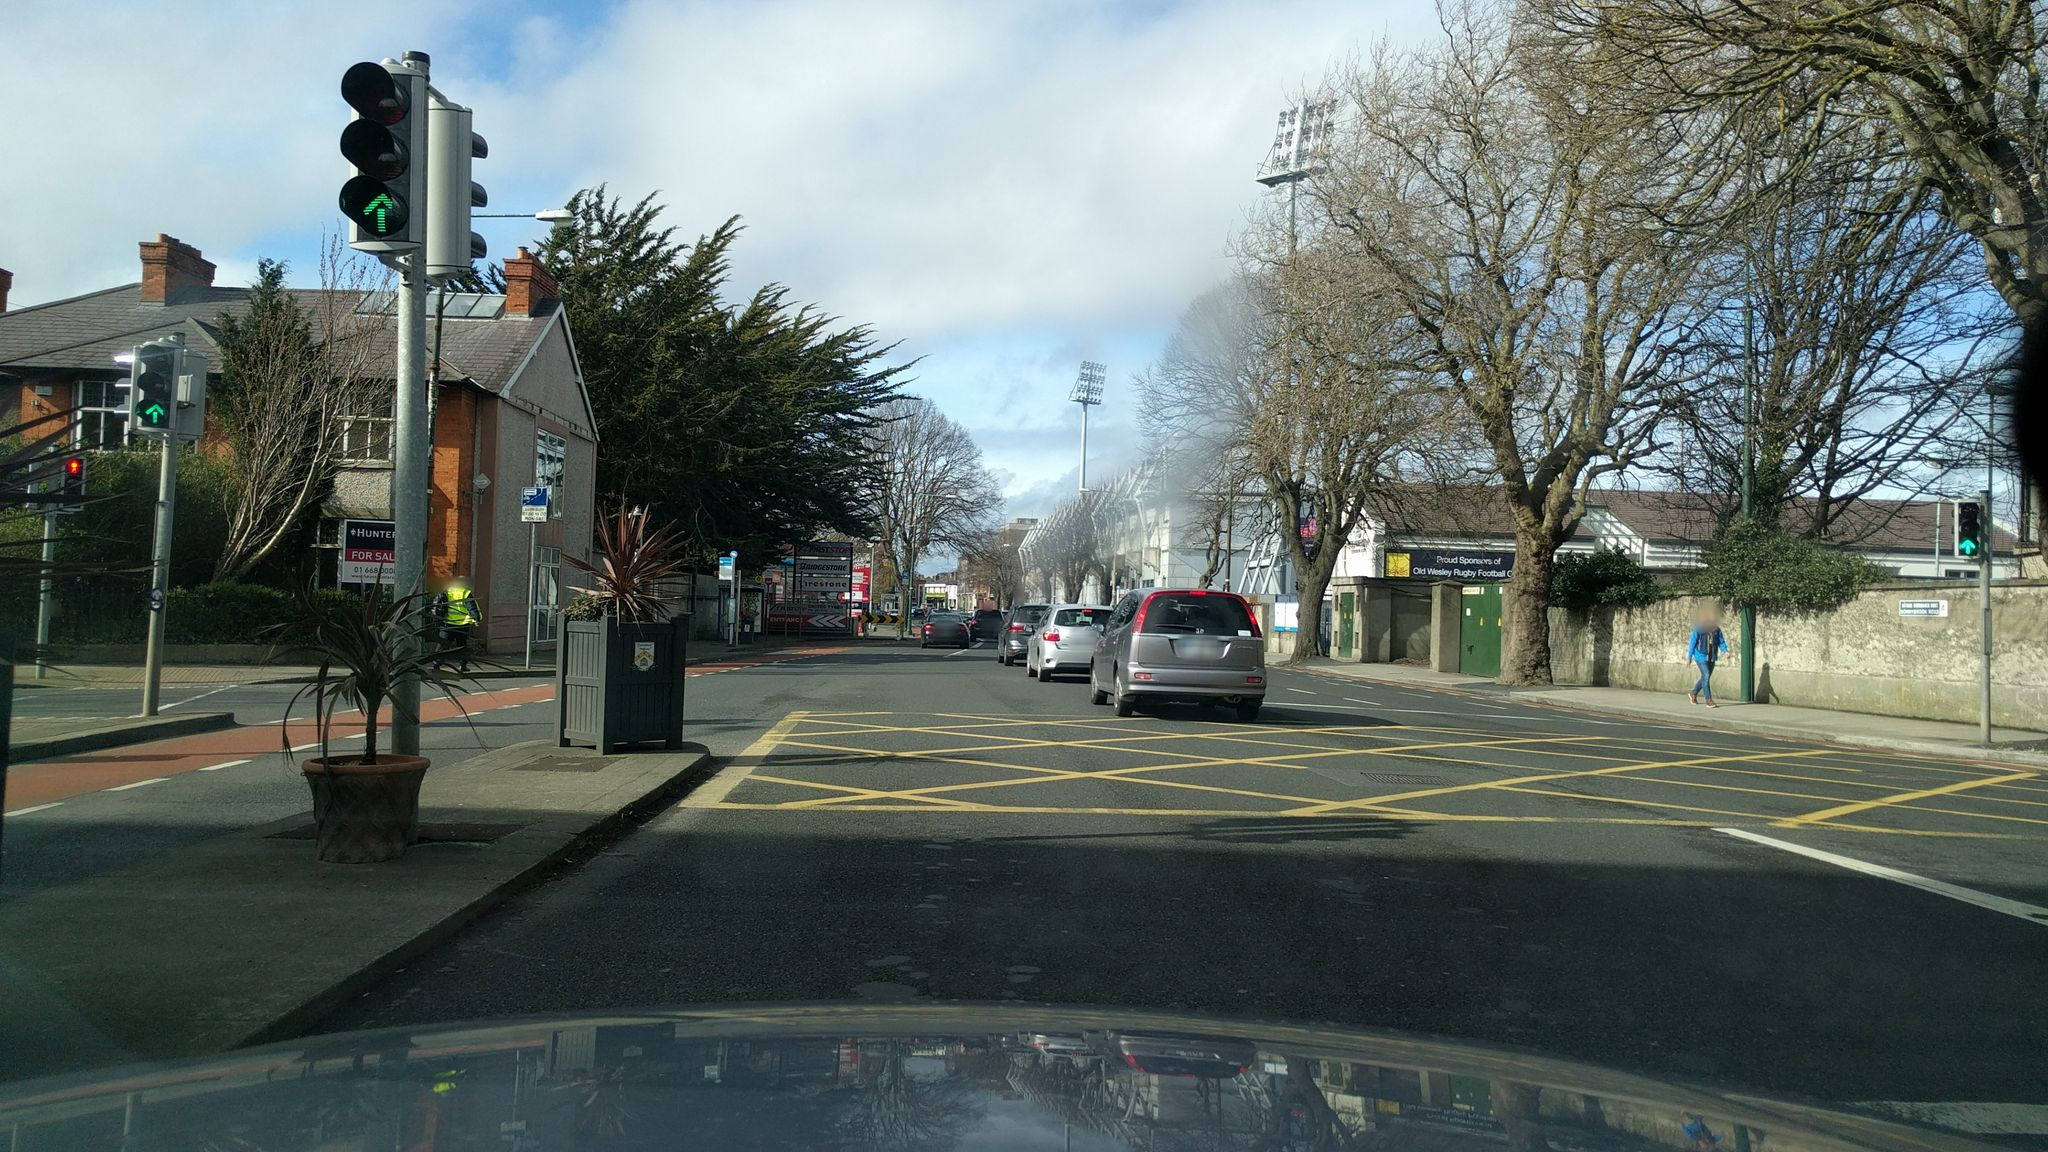property sign: (329, 505, 404, 595)
